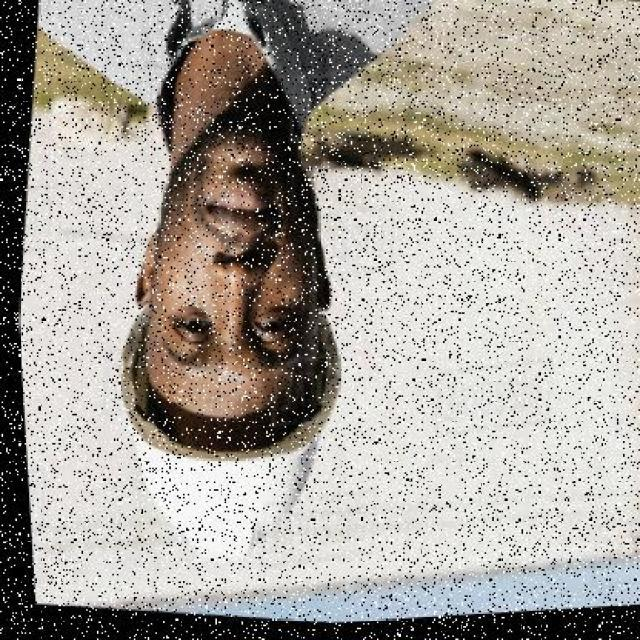helmet: (76, 308, 359, 580)
